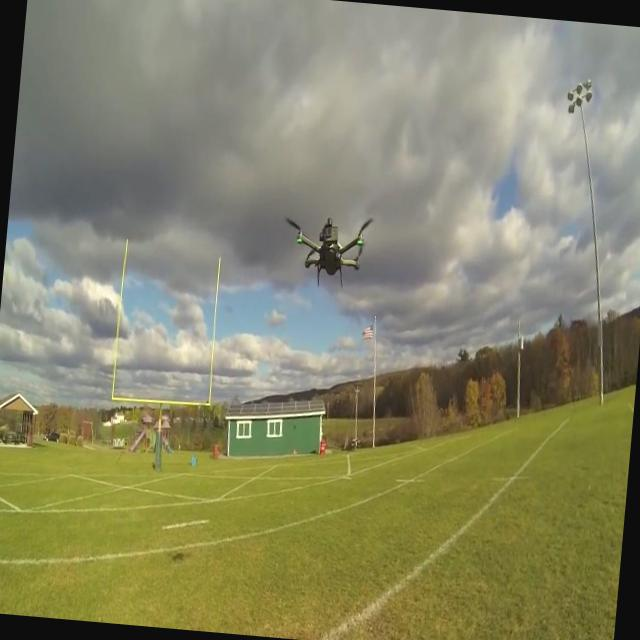drone: (281, 203, 375, 294)
